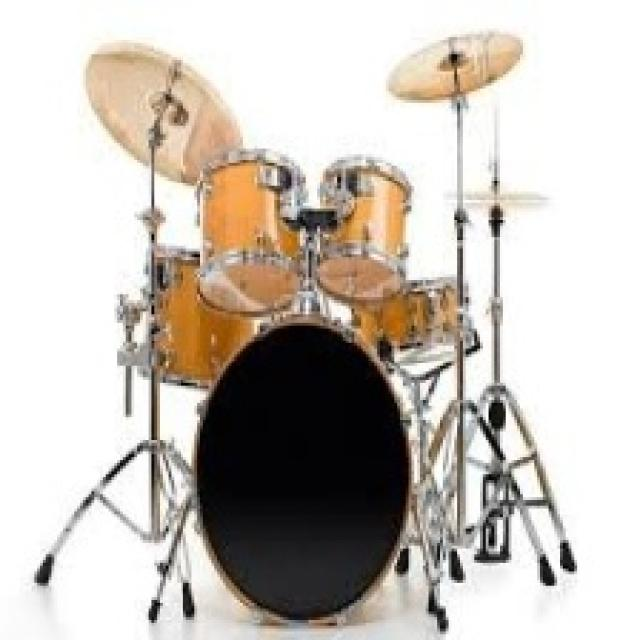drums: (79, 31, 561, 625)
